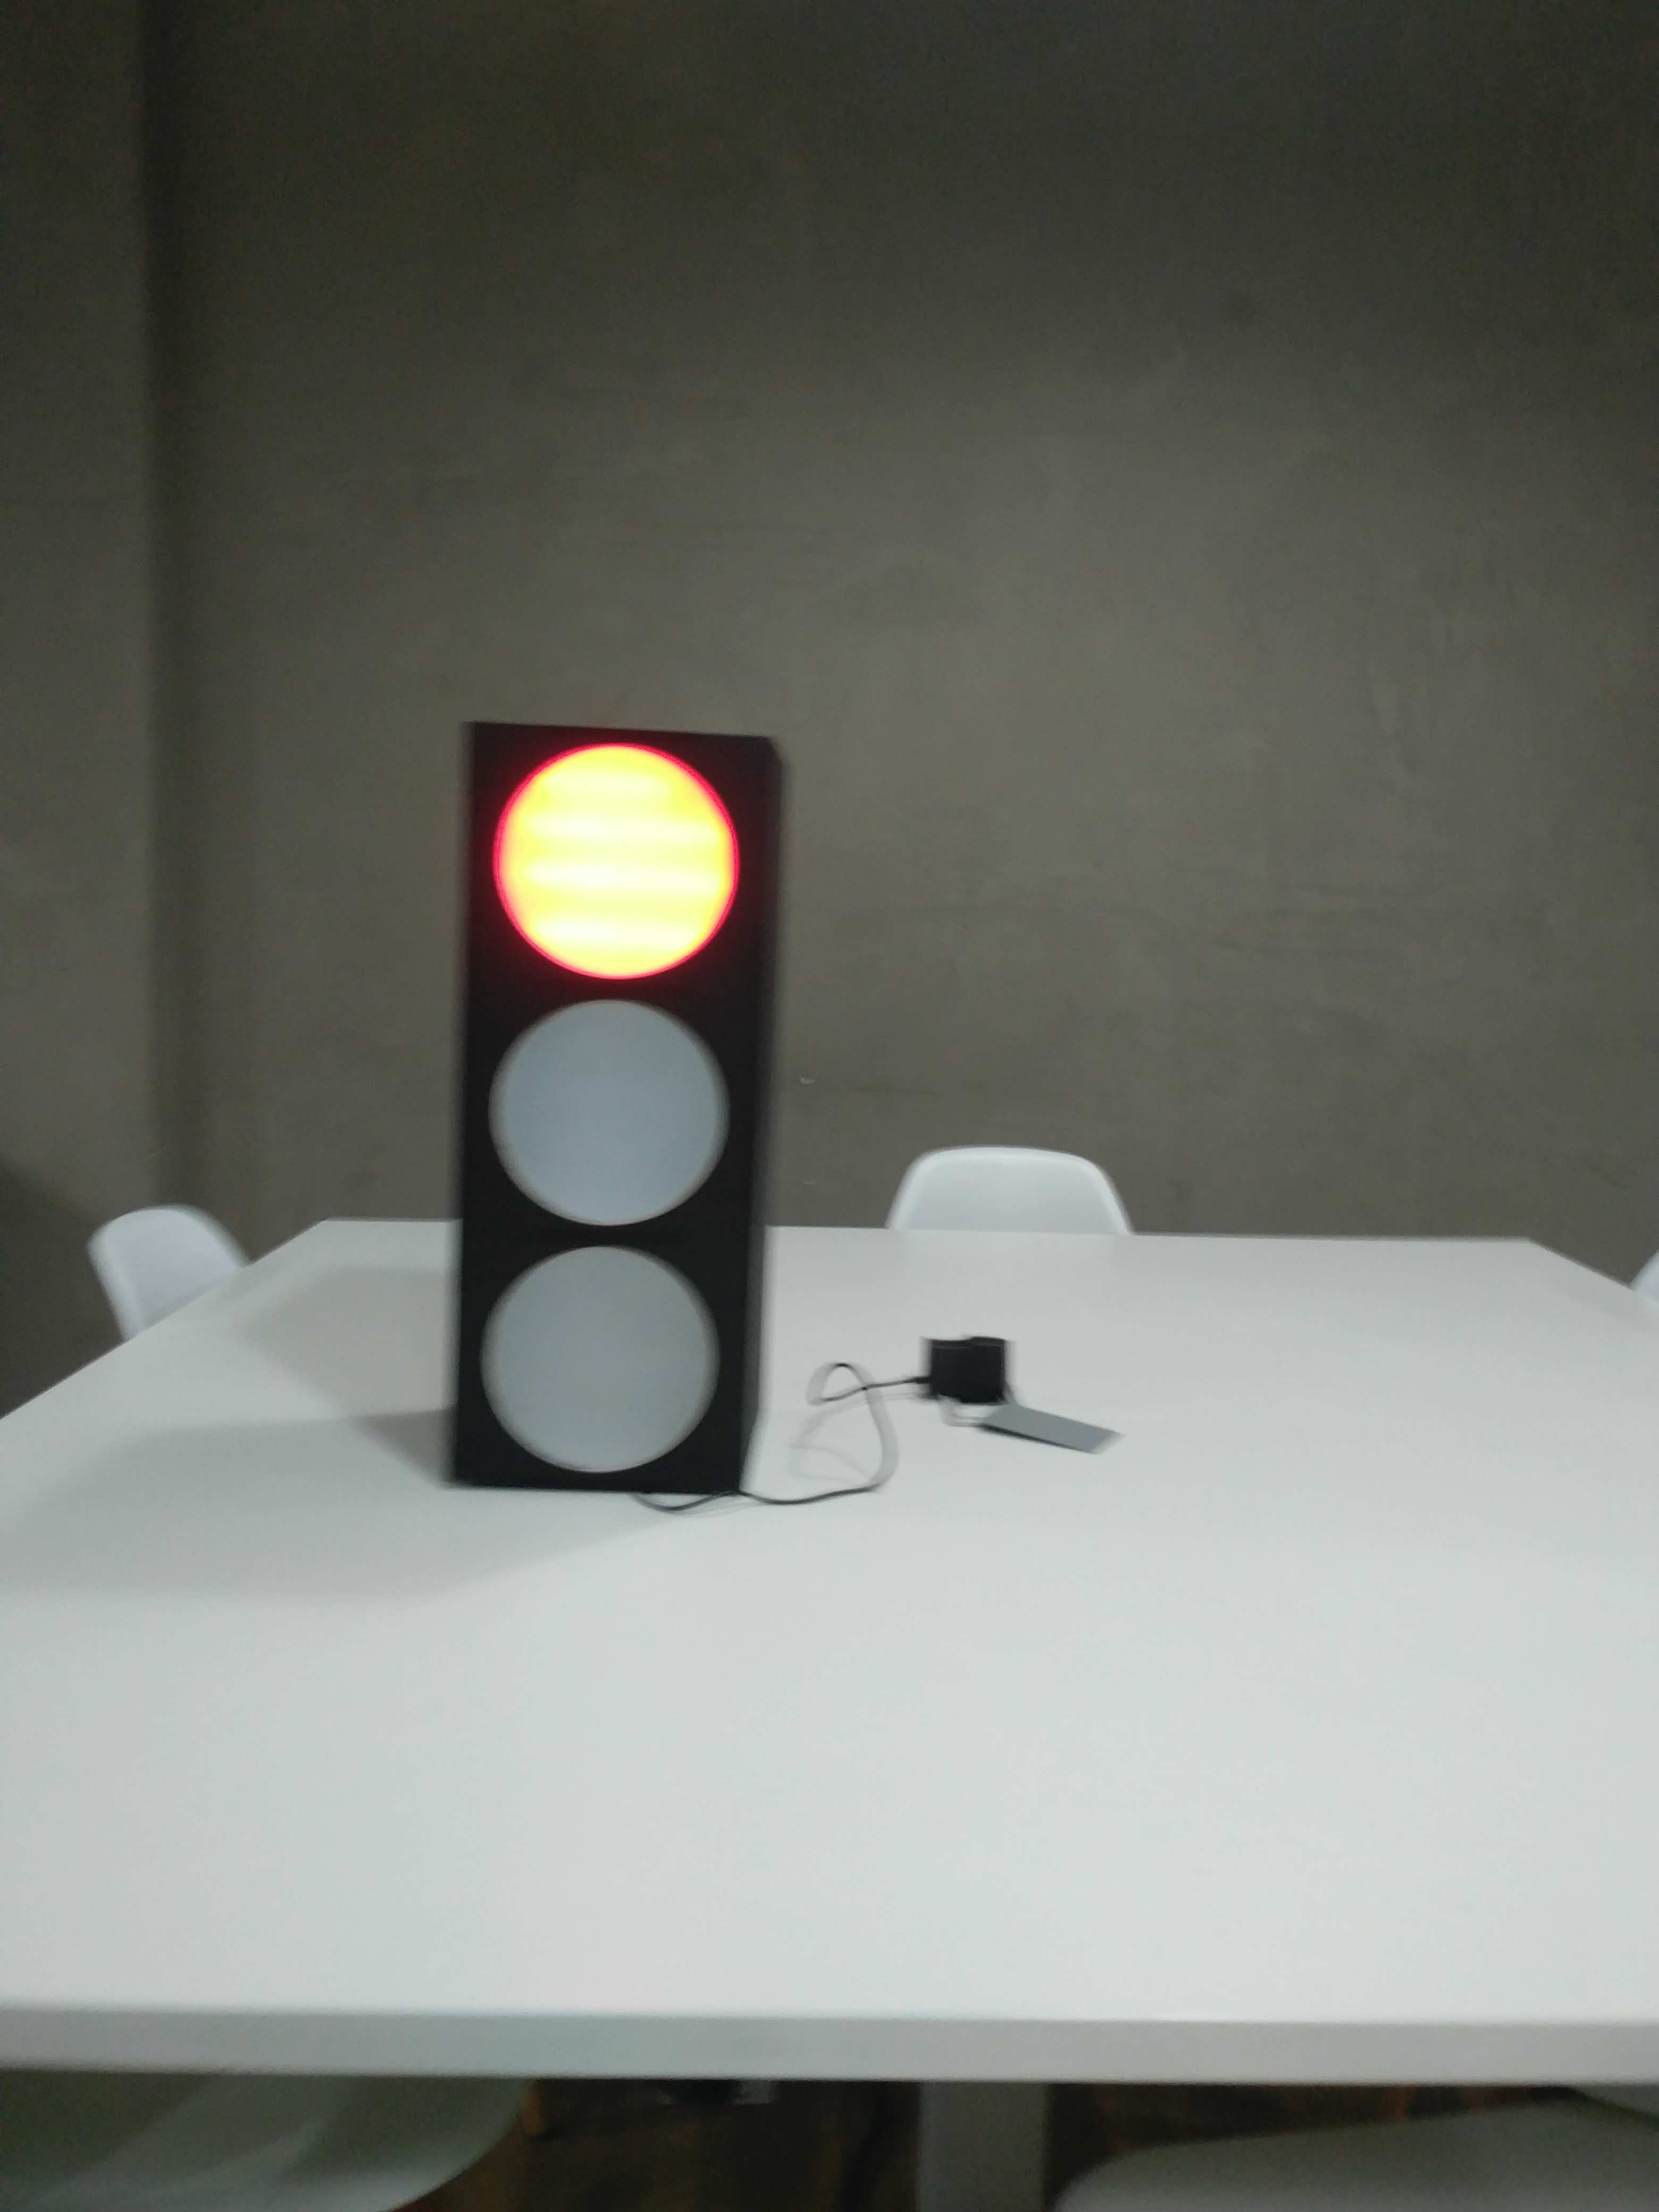stop: (446, 716, 795, 1484)
